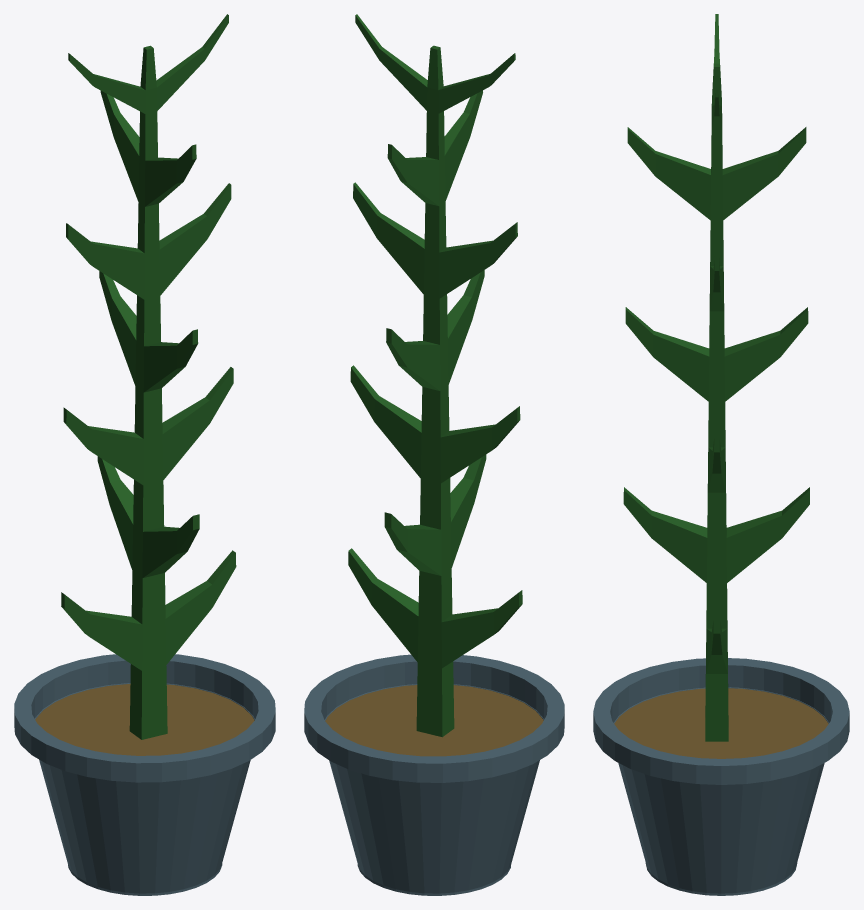
The model's file is plant_2.fbx.
The picture shows the model from 3 angles, left to right: view 1: azimuth 30°, elevation 25°; view 2: azimuth 150°, elevation 25°; view 3: azimuth 270°, elevation 25°; orthographic projection. The views are drawn at different scales.
Parts seen in each view (by area): view 1: Cylinder.006; view 2: Cylinder.006; view 3: Cylinder.006.
Boxes of the visible parts, x1,y1,x2,y2 form: Cylinder.006: (14, 14, 275, 895); Cylinder.006: (304, 14, 564, 895); Cylinder.006: (593, 14, 849, 895).
Bounding box in the file's own units: 182 × 637 × 182.
